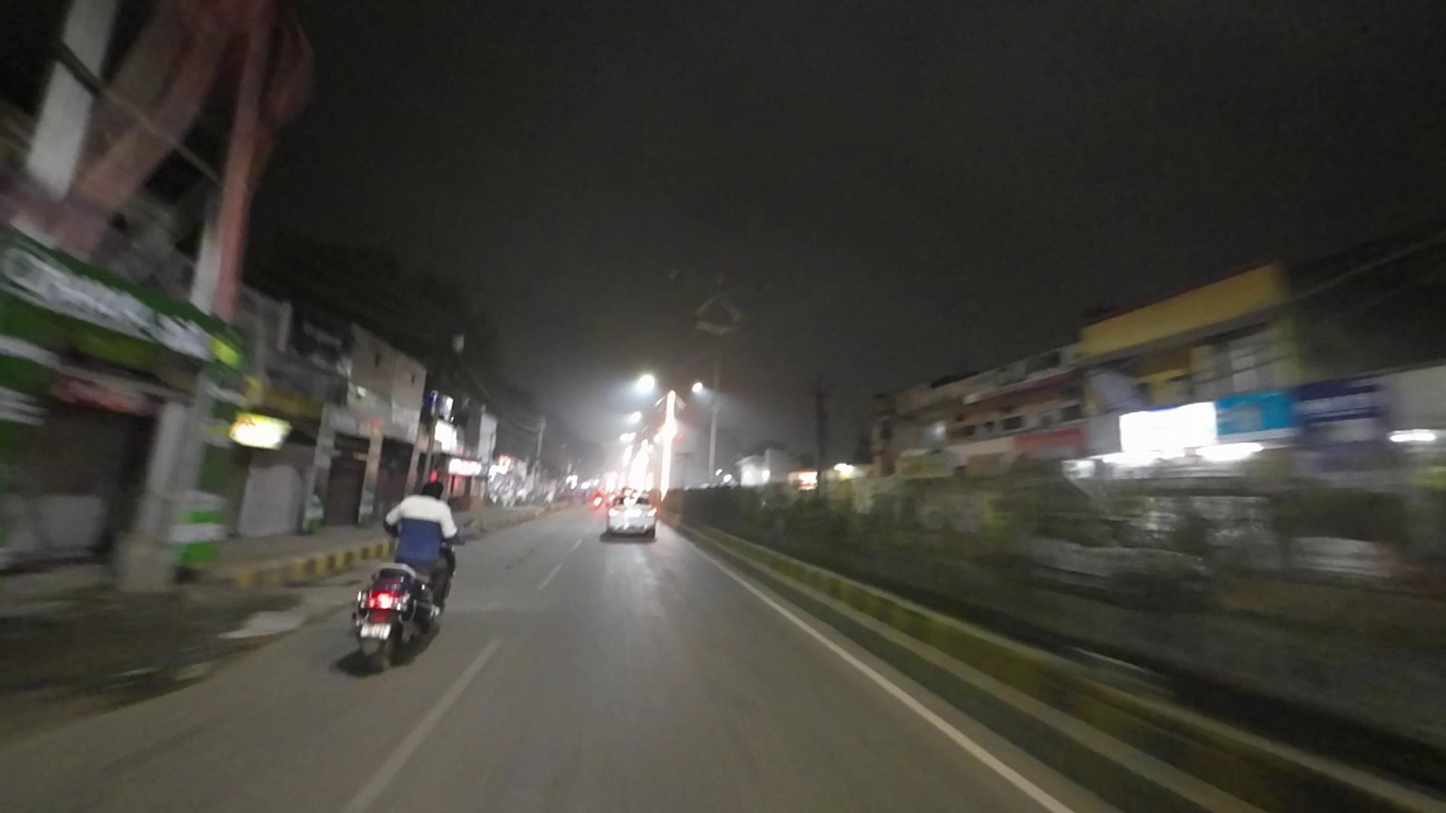streetlight: (666, 270, 720, 289), (729, 277, 774, 297)
